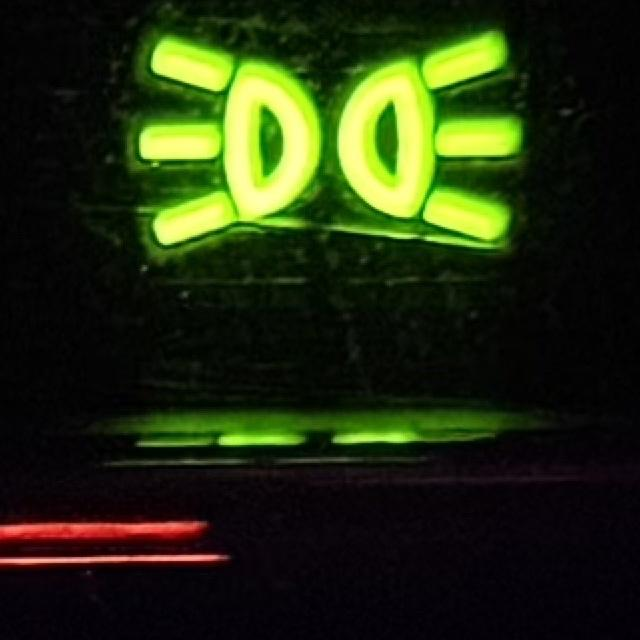Parking Light On: (139, 25, 525, 260)
